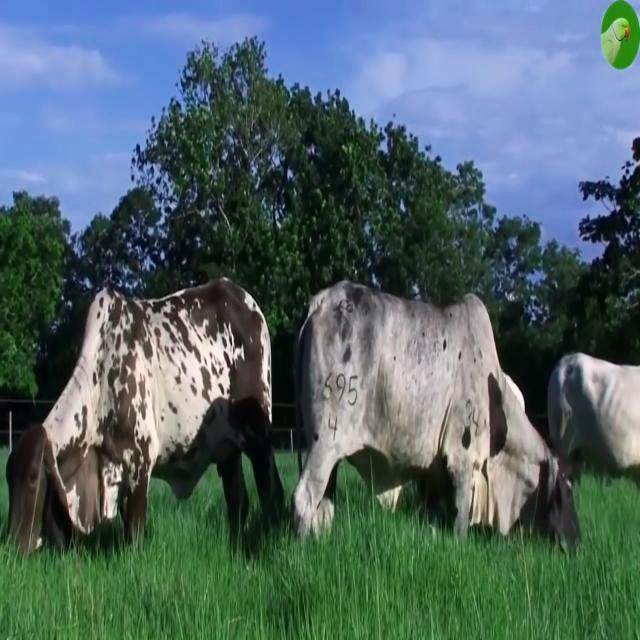cow: (294, 281, 579, 548), (9, 280, 282, 552), (549, 352, 640, 470)
